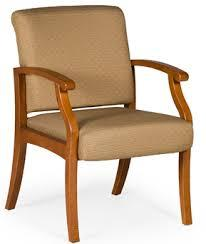sofa: (6, 1, 199, 227)
